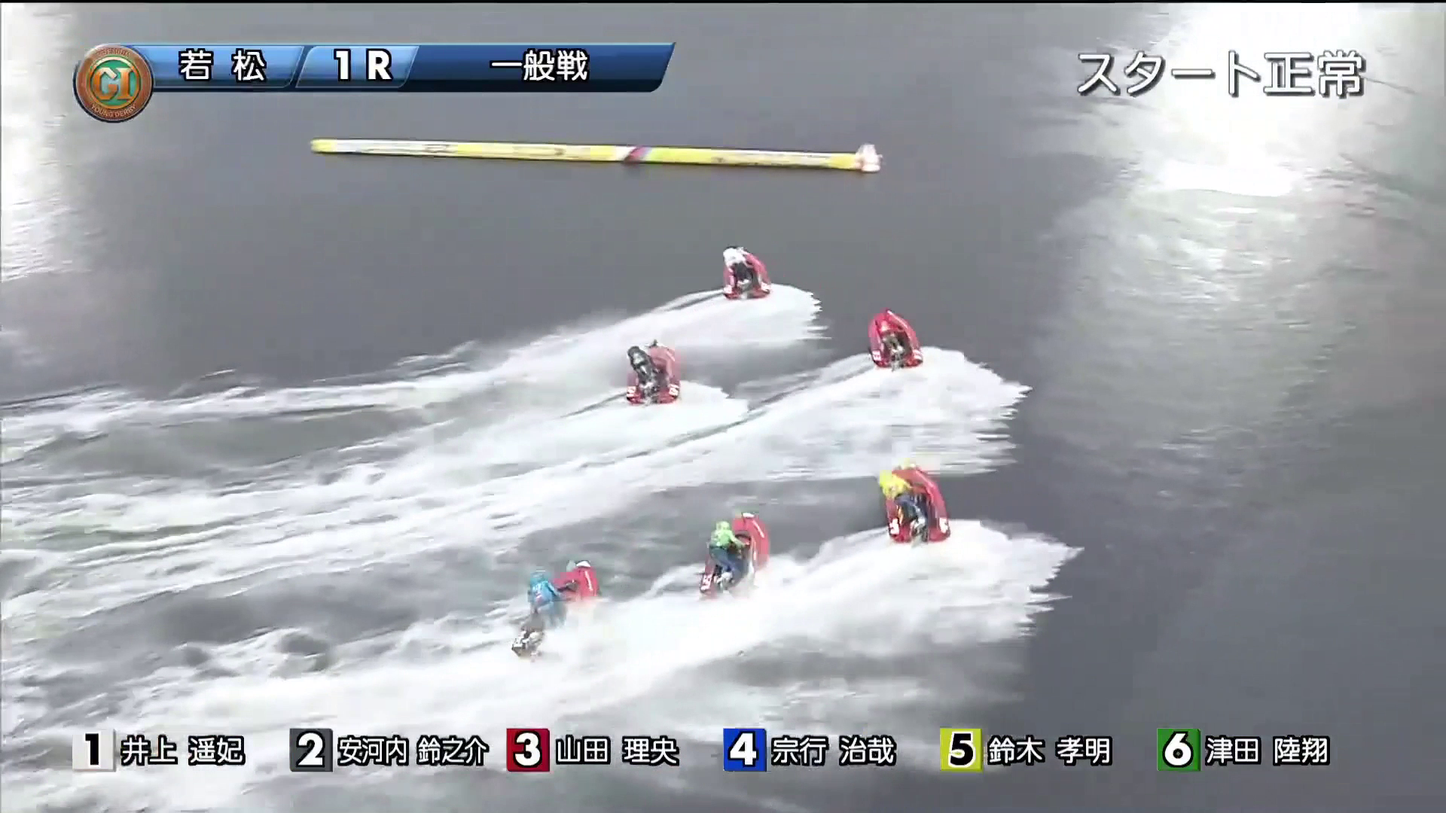１号艇: (700, 251, 771, 304)
２号艇: (599, 358, 728, 418)
３号艇: (840, 332, 937, 378)
４号艇: (656, 539, 790, 604)
５号艇: (464, 595, 588, 650)
６号艇: (870, 486, 969, 543)
